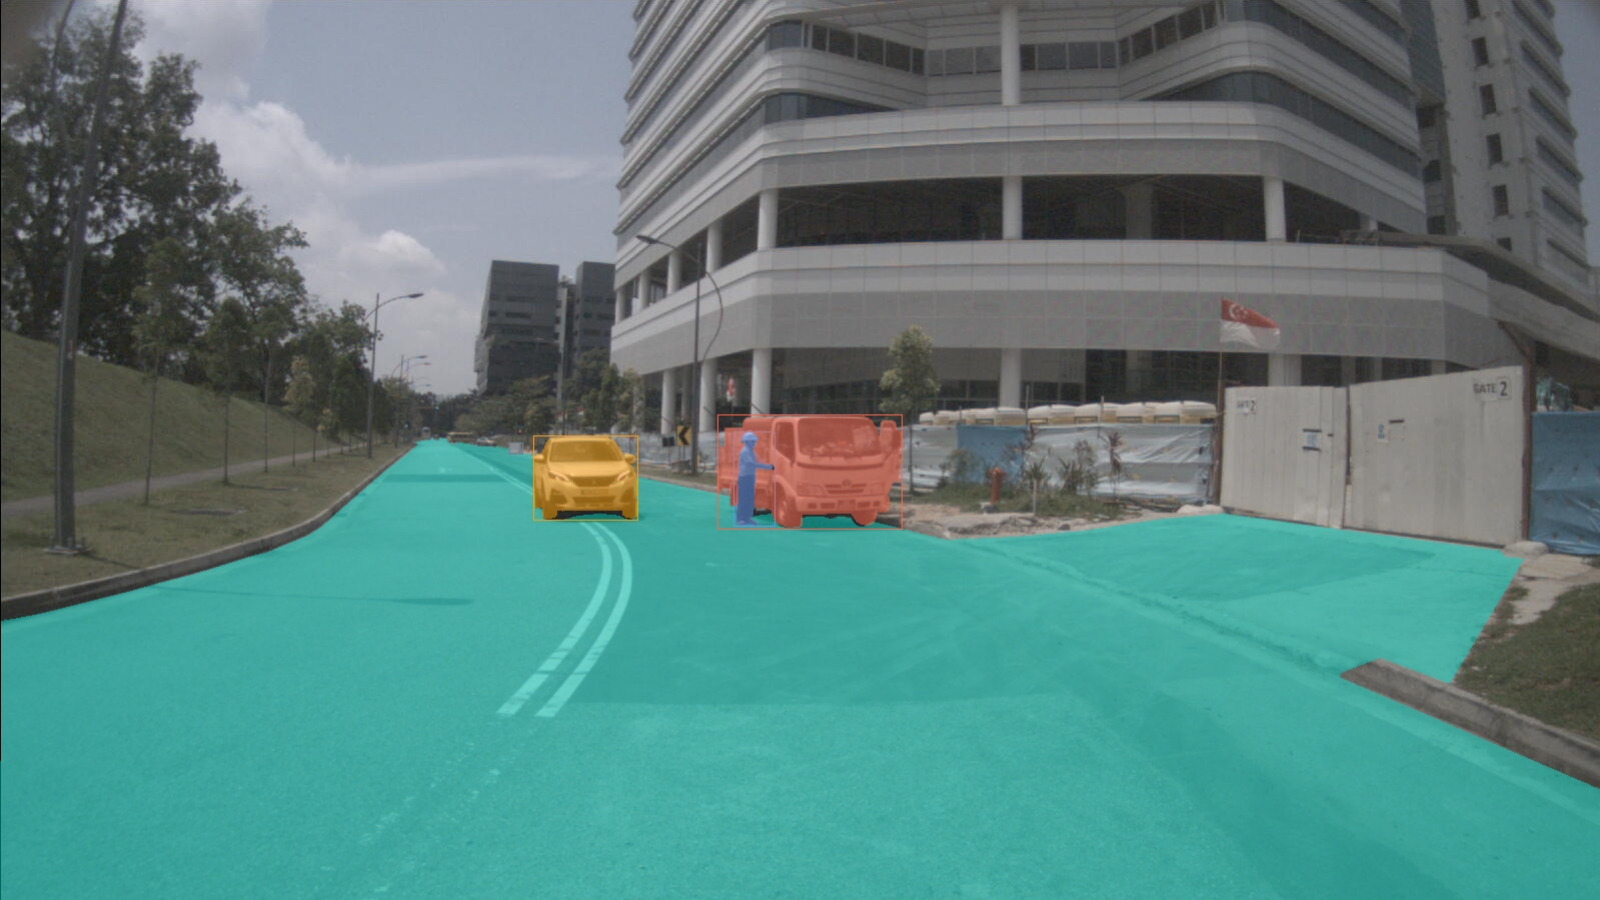human.pedestrian.adult: (777, 411, 860, 497)
